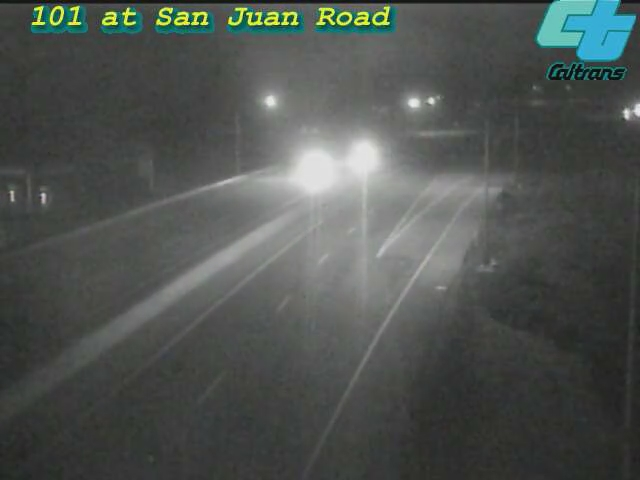vehicle: (276, 127, 356, 207), (313, 116, 393, 196), (602, 91, 640, 141)
